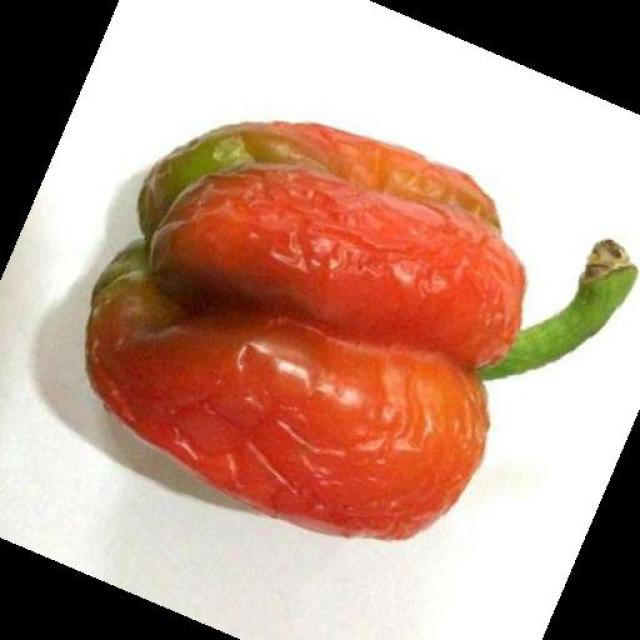Stale_Capsicum: (132, 101, 613, 557)
